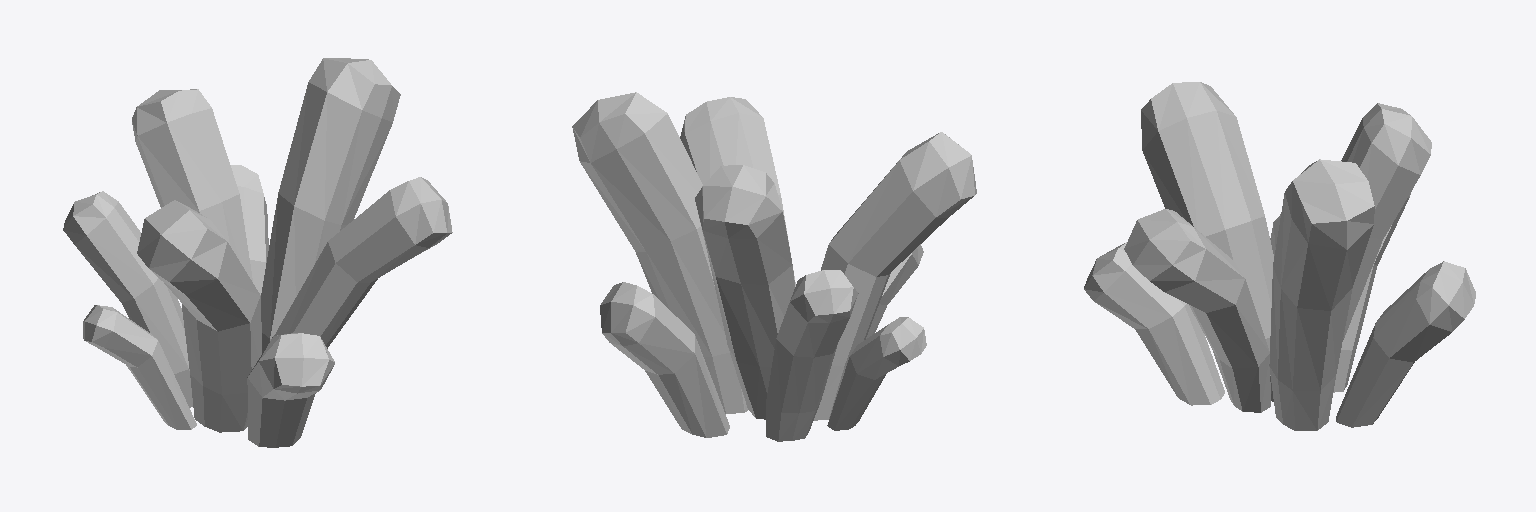
File: Anemone_A_03_LOD1.obj
The picture shows the model from 3 angles: view 1: azimuth 30°, elevation 25°; view 2: azimuth 150°, elevation 25°; view 3: azimuth 270°, elevation 25°; orthographic projection.
Visible parts, largest first — view 1: Anemone_A_03_LOD1_Cylinder.404; view 2: Anemone_A_03_LOD1_Cylinder.404; view 3: Anemone_A_03_LOD1_Cylinder.404.
Part boxes in pixels (bbox=[...]): Anemone_A_03_LOD1_Cylinder.404: bbox=[63, 58, 452, 447]; Anemone_A_03_LOD1_Cylinder.404: bbox=[572, 92, 976, 441]; Anemone_A_03_LOD1_Cylinder.404: bbox=[1084, 82, 1475, 430].
Bounding box in the file's own units: 3.6 × 3.2 × 3.77.